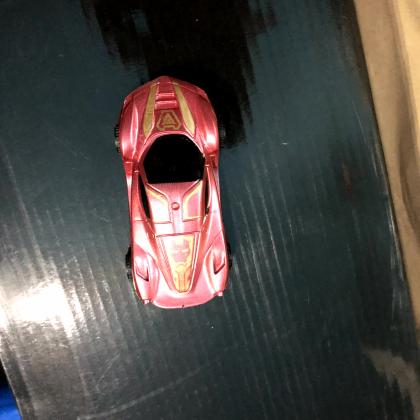Car: (112, 73, 235, 311)
